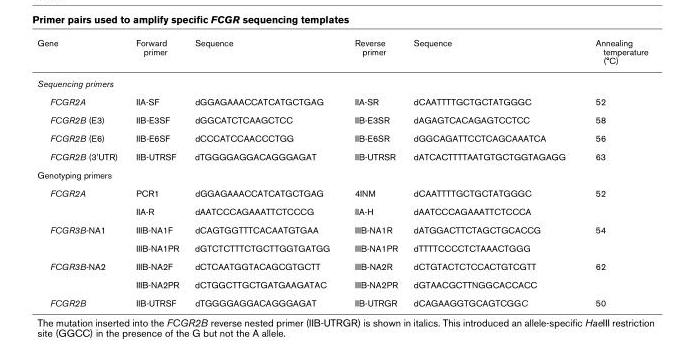table: (36, 36, 647, 307)
table column: (404, 36, 579, 307), (186, 36, 341, 307), (36, 36, 126, 307), (579, 36, 647, 307), (341, 36, 404, 307), (126, 36, 186, 307)
table column header: (36, 36, 647, 71)
table projected row header: (36, 71, 647, 91), (36, 165, 647, 183)
table row: (36, 36, 647, 71), (36, 71, 647, 91), (36, 91, 647, 110), (36, 146, 647, 165), (36, 201, 647, 220), (36, 256, 647, 275), (36, 110, 647, 128), (36, 128, 647, 146), (36, 165, 647, 183), (36, 183, 647, 201), (36, 220, 647, 238), (36, 238, 647, 256), (36, 275, 647, 293), (36, 293, 647, 307)
table spanning cell: (36, 183, 126, 220), (36, 256, 126, 293), (36, 220, 126, 256)
